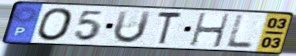5: (72, 10, 108, 42)
H: (189, 12, 232, 49)
L: (224, 14, 255, 50)
O: (36, 7, 76, 42)
T: (155, 10, 185, 47)
U: (111, 10, 154, 45)
